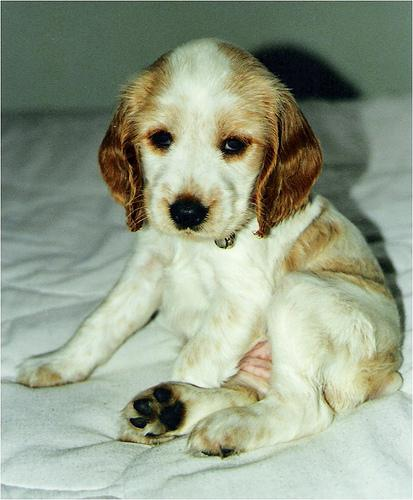dog-english_cocker_spaniel: (97, 37, 319, 238)
